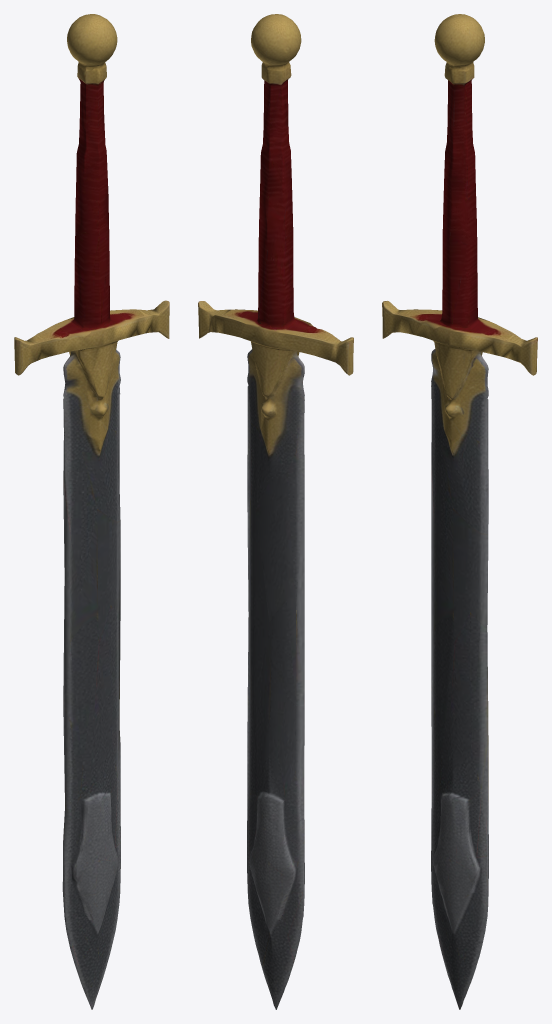
File: wpn_daikiem.glb
3 renders of one model, left to right at view 1: azimuth 30°, elevation 25°; view 2: azimuth 150°, elevation 25°; view 3: azimuth 330°, elevation 25°, orthographic.
Bounding box in the file's own units: 0.3083 × 1.9 × 0.0871.
Materials: 1 (1 with a texture image).
